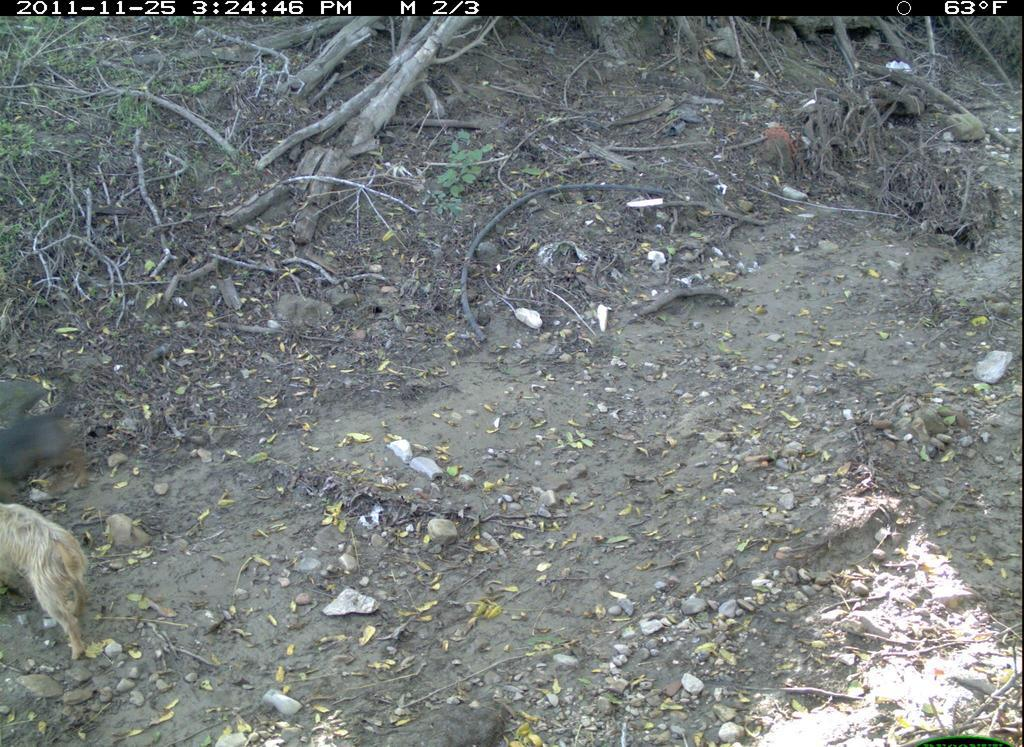dog: (1, 498, 104, 669)
